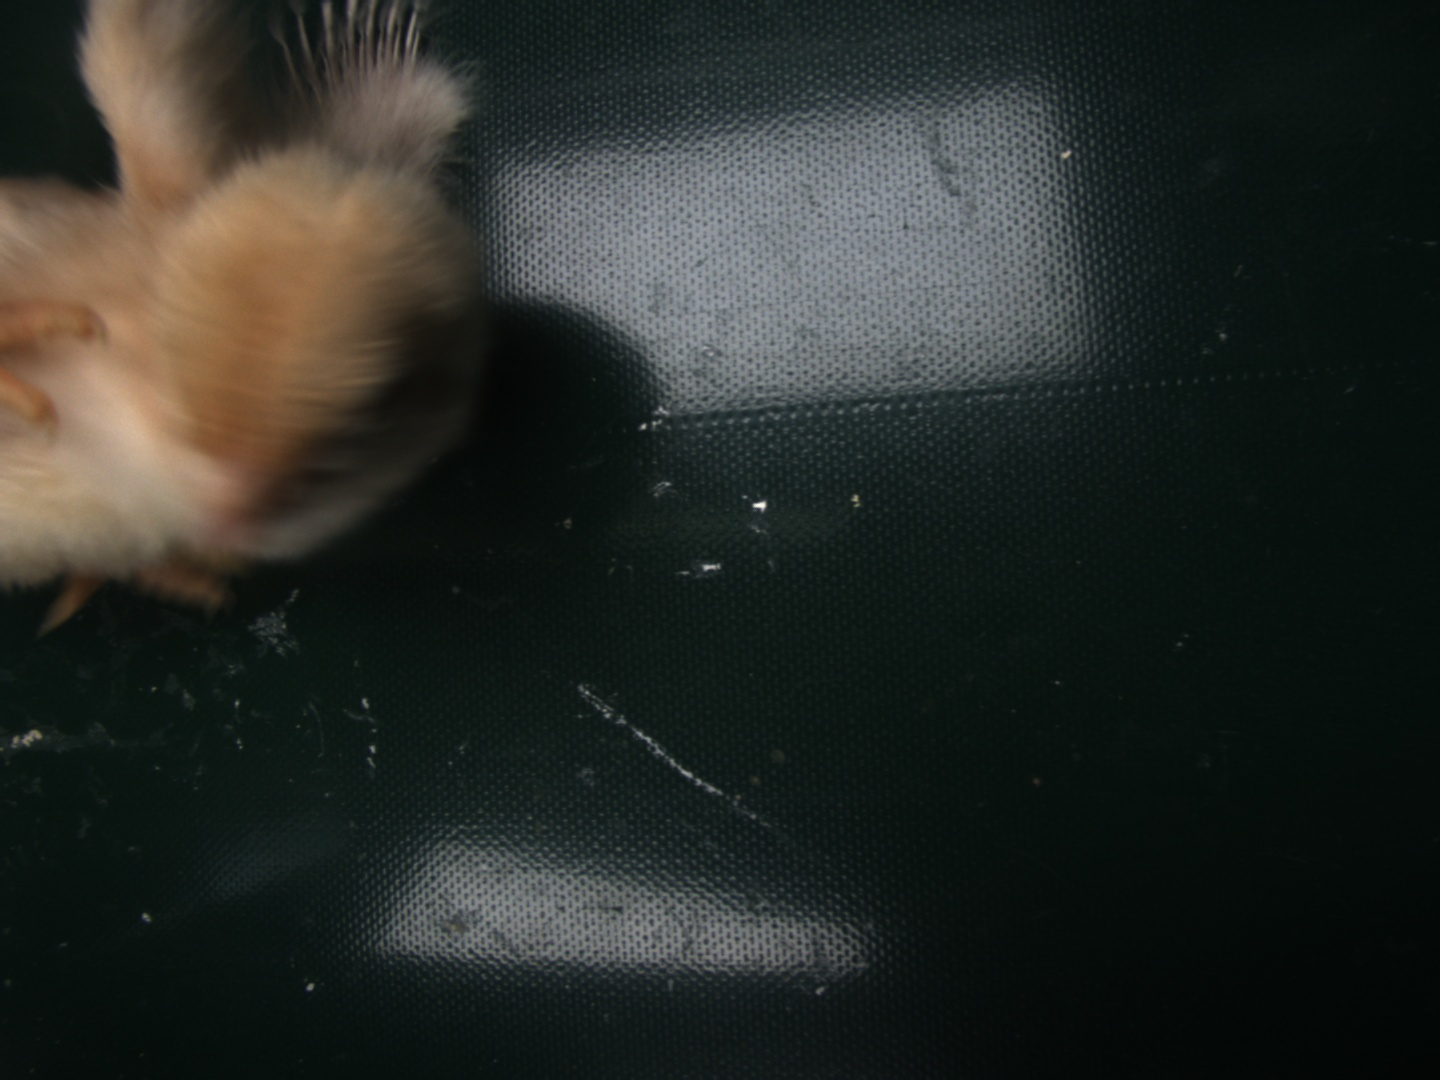female: (262, 2, 425, 119)
